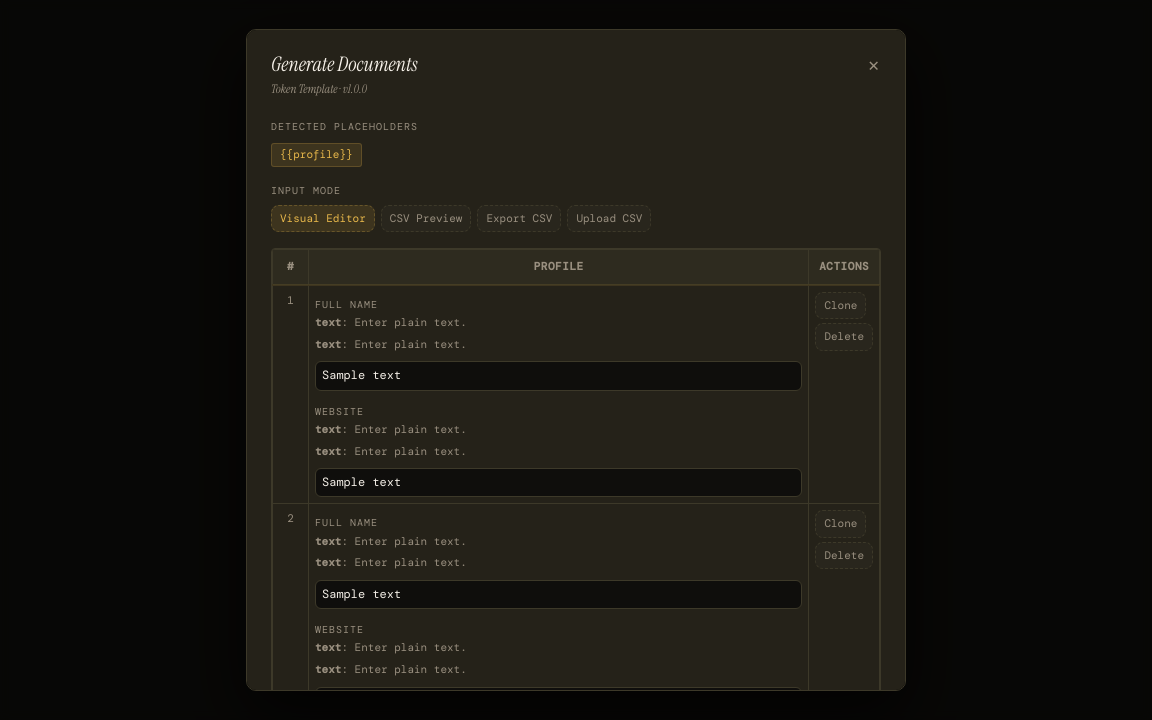
Test: GenerateModal premium visual/json workflow › syncs visual token fields into JSON workspace
Replace the text in the 1st field with placeholder "name" with "Ada Lovelace" at point(559, 376), box [315,361,802,390]
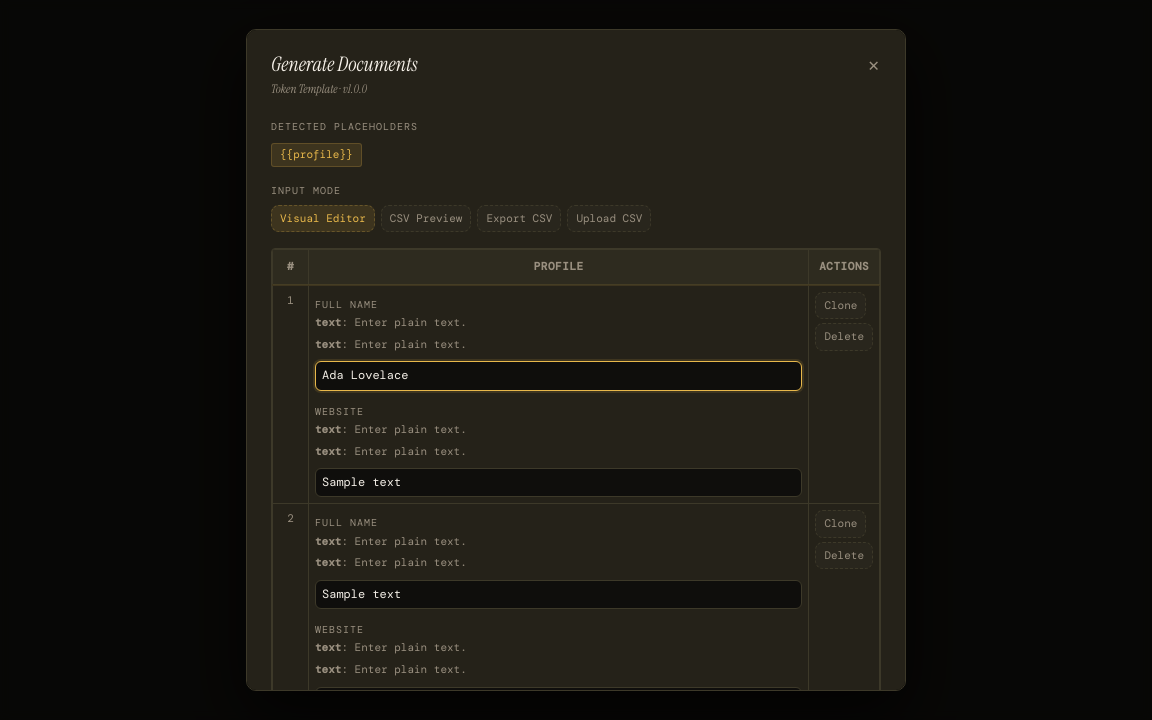
Replace the text in the 2nd field with placeholder "url" with "https://example.com" at point(559, 483), box [315,468,802,497]
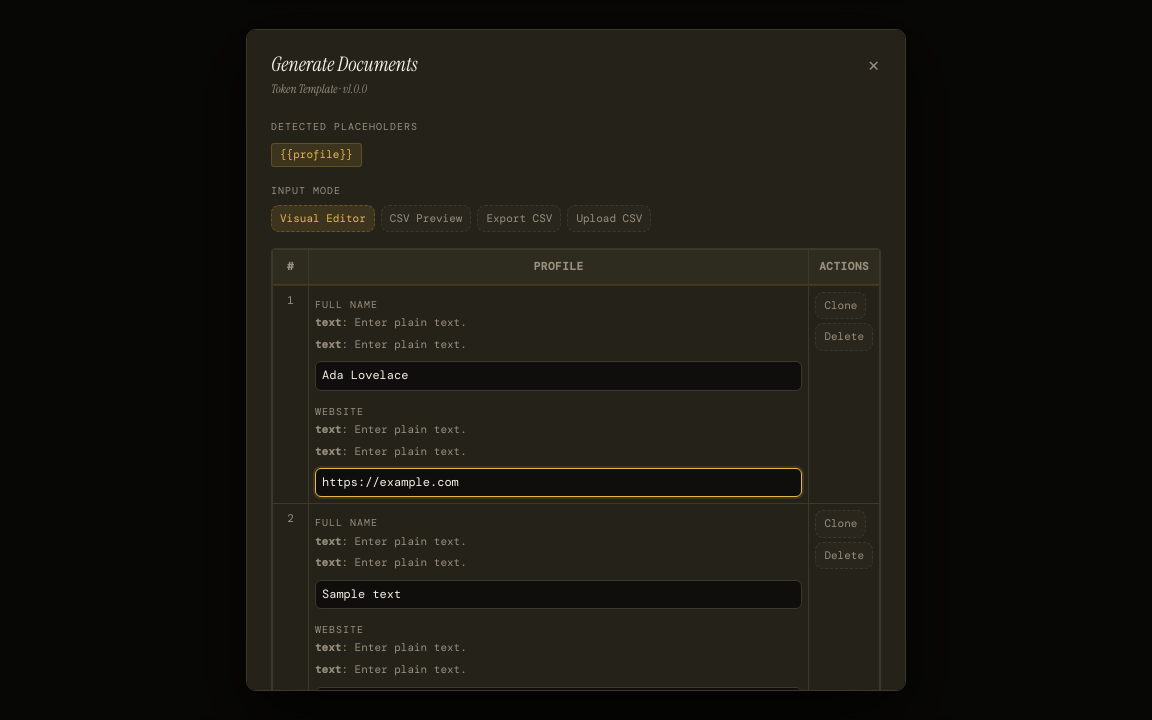
Click the button "CSV Preview".
click(426, 218)  # box [381,205,471,232]
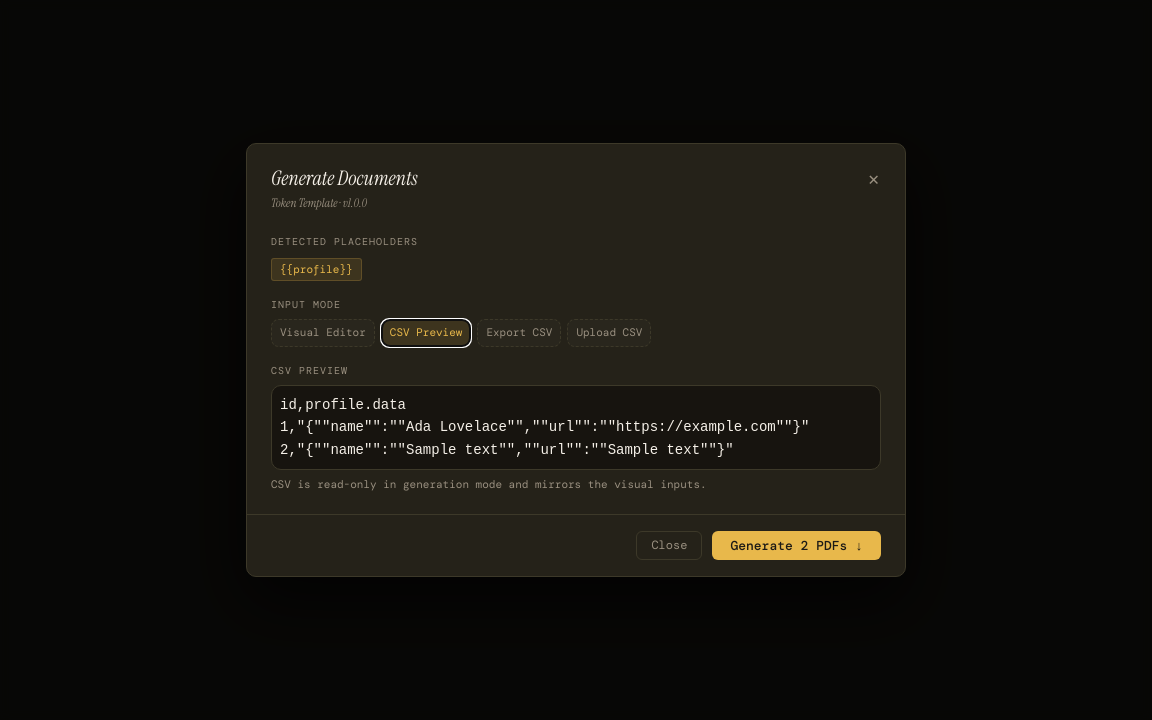
Check: the text named "CSV Preview" shows "Ada Lovelace", box [280,397,809,458]
Check: the text named "CSV Preview" shows "https://example.com", box [280,397,809,458]
